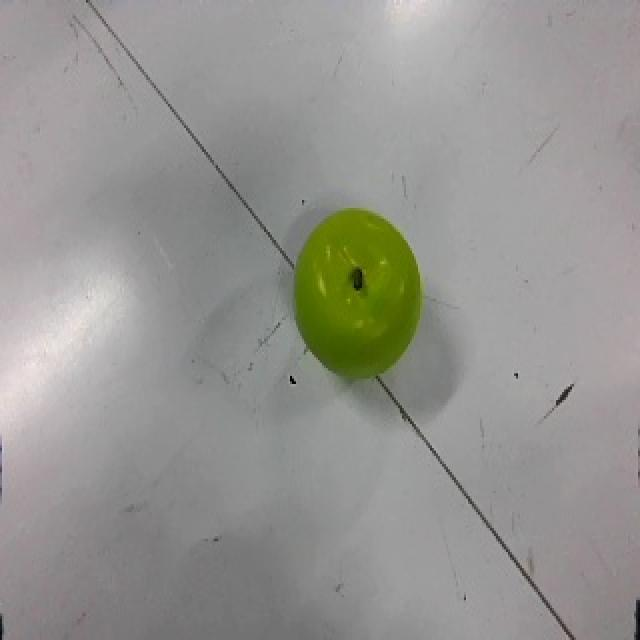apple: (294, 208, 424, 380)
